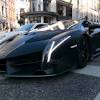Lamborghini: (1, 21, 100, 75)
